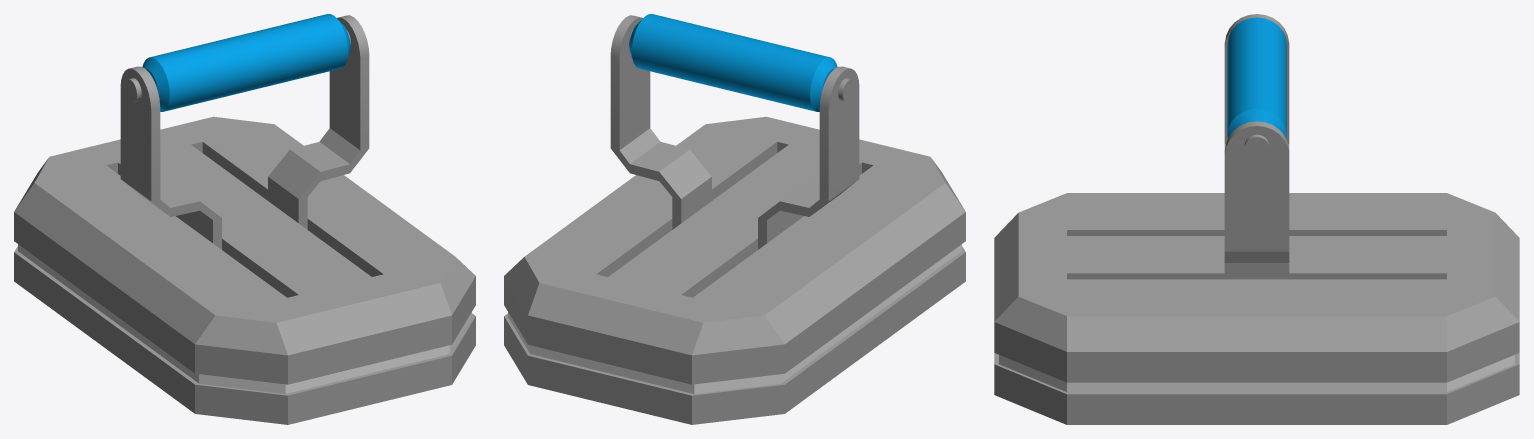
File: Slider.fbx
The picture shows the model from 3 angles, left to right: view 1: azimuth 30°, elevation 25°; view 2: azimuth 150°, elevation 25°; view 3: azimuth 270°, elevation 25°; orthographic projection. The views are drawn at different scales.
Parts seen in each view (by area): view 1: Slider, SliderGrip; view 2: Slider, SliderGrip; view 3: Slider, SliderGrip.
Boxes of the visible parts, x1=… form: Slider: x1=14, y1=116, x2=475, y2=424; SliderGrip: x1=120, y1=14, x2=369, y2=249; Slider: x1=504, y1=116, x2=965, y2=424; SliderGrip: x1=610, y1=14, x2=859, y2=249; Slider: x1=994, y1=193, x2=1519, y2=424; SliderGrip: x1=1224, y1=14, x2=1289, y2=279.
Bounding box in the file's own units: 25.53 × 23.96 × 39.37.
